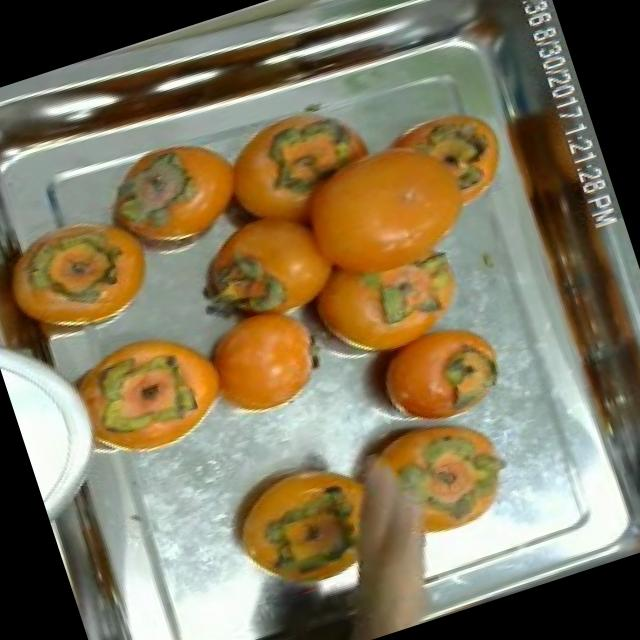Fruit: (326, 87, 540, 280), (204, 434, 402, 621), (76, 120, 273, 298), (46, 305, 240, 485), (0, 185, 179, 366), (170, 278, 349, 438), (348, 302, 522, 444)
